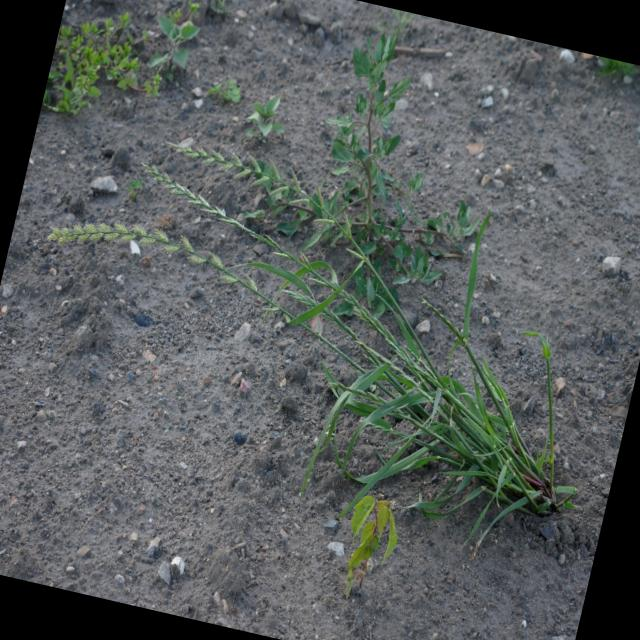Lolium: (288, 237, 608, 547), (160, 124, 367, 238), (47, 205, 268, 293), (136, 164, 248, 224)
